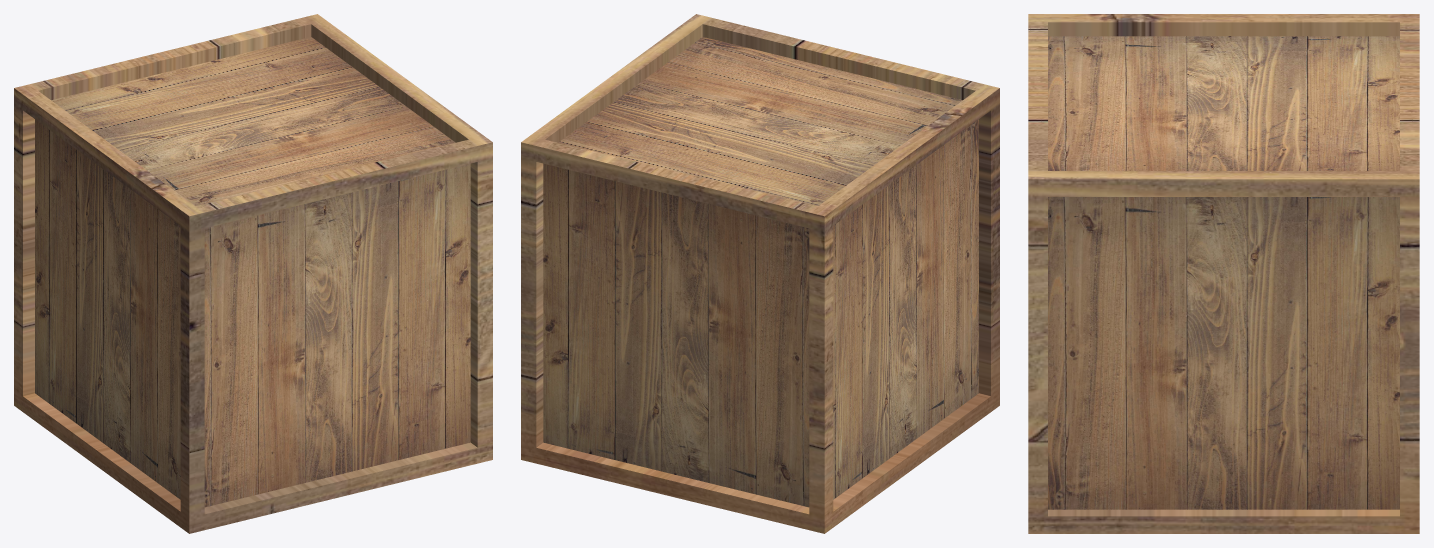
File: crate.fbx
The picture shows the model from 3 angles, left to right: view 1: azimuth 30°, elevation 25°; view 2: azimuth 150°, elevation 25°; view 3: azimuth 270°, elevation 25°; orthographic projection. The views are drawn at different scales.
Visible parts, largest first — view 1: Cube; view 2: Cube; view 3: Cube.
Boxes of the visible parts, <box> form: Cube: <box>14,14,492,533</box>; Cube: <box>521,14,999,533</box>; Cube: <box>1028,14,1419,533</box>.
Bounding box in the file's own units: 50 × 50 × 50.
